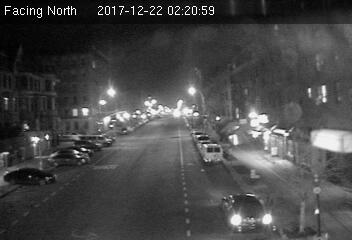car: (221, 191, 270, 233)
truck: (200, 143, 224, 163)
